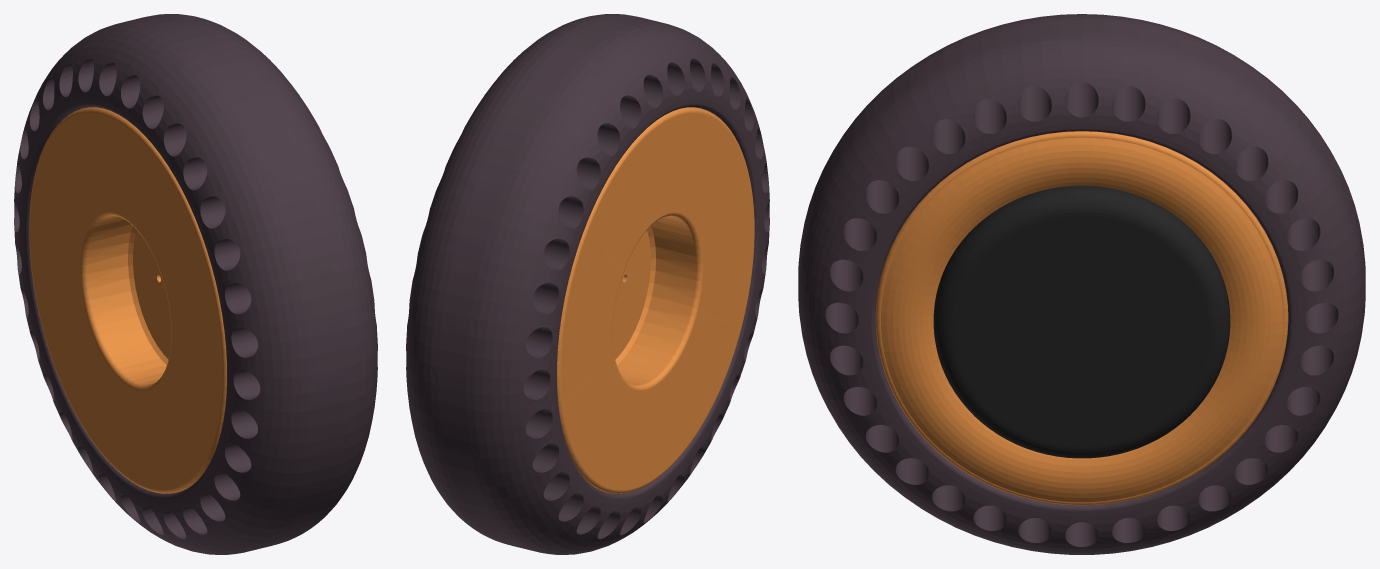
File: wheel.dae
3 views of the same model, side by side, from view 1: azimuth 30°, elevation 25°; view 2: azimuth 150°, elevation 25°; view 3: azimuth 270°, elevation 25° (orthographic). The views are drawn at different scales.
Visible parts, largest first — view 1: Wheel; view 2: Wheel; view 3: Wheel.
Part boxes in pixels (x1=…): Wheel: x1=14, y1=14, x2=377, y2=554; Wheel: x1=406, y1=14, x2=769, y2=554; Wheel: x1=798, y1=14, x2=1365, y2=554.
Size of the model in its own units: 0.075 by 0.22 by 0.2199.
